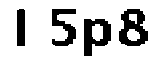5: (45, 6, 78, 50)
8: (118, 8, 150, 51)
l: (9, 2, 33, 52)
p: (81, 16, 113, 59)
